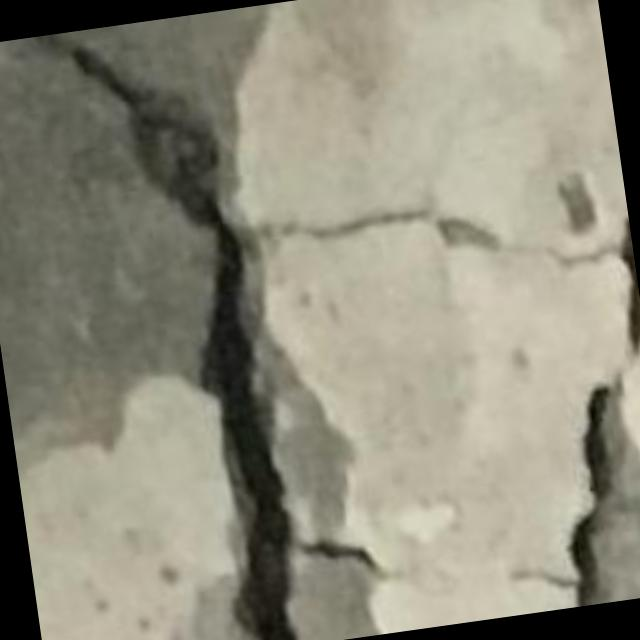crack: (39, 34, 296, 639), (254, 207, 620, 266), (568, 386, 611, 606), (254, 208, 431, 240), (296, 539, 378, 574), (618, 221, 639, 350), (510, 567, 576, 591)
